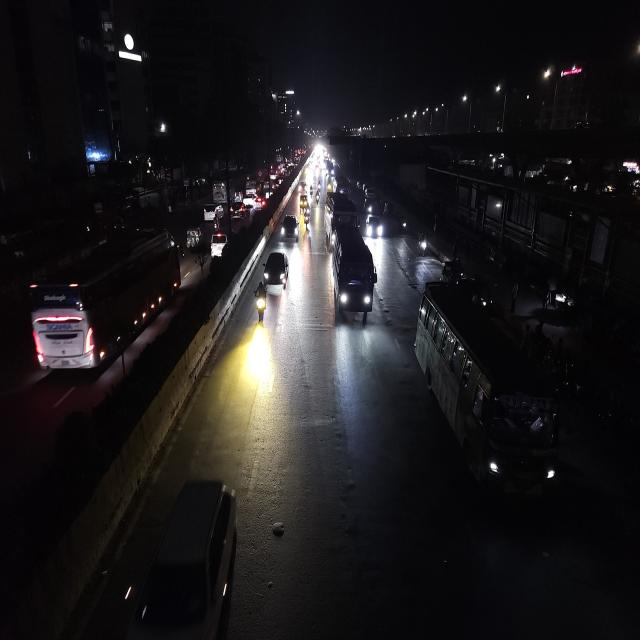bus: (414, 284, 564, 498), (24, 224, 181, 379), (325, 218, 379, 322), (323, 190, 359, 243)
car: (136, 475, 244, 640), (260, 247, 292, 294), (207, 229, 231, 260), (279, 212, 300, 246), (367, 213, 384, 239), (230, 201, 247, 219), (202, 202, 218, 220), (254, 192, 266, 208), (299, 180, 308, 195)
cng: (461, 274, 494, 312), (440, 256, 466, 284), (184, 220, 204, 251)
motorcycle: (252, 278, 270, 325), (416, 231, 430, 258), (396, 214, 409, 237), (382, 200, 391, 218), (313, 187, 321, 206), (304, 209, 310, 231)
